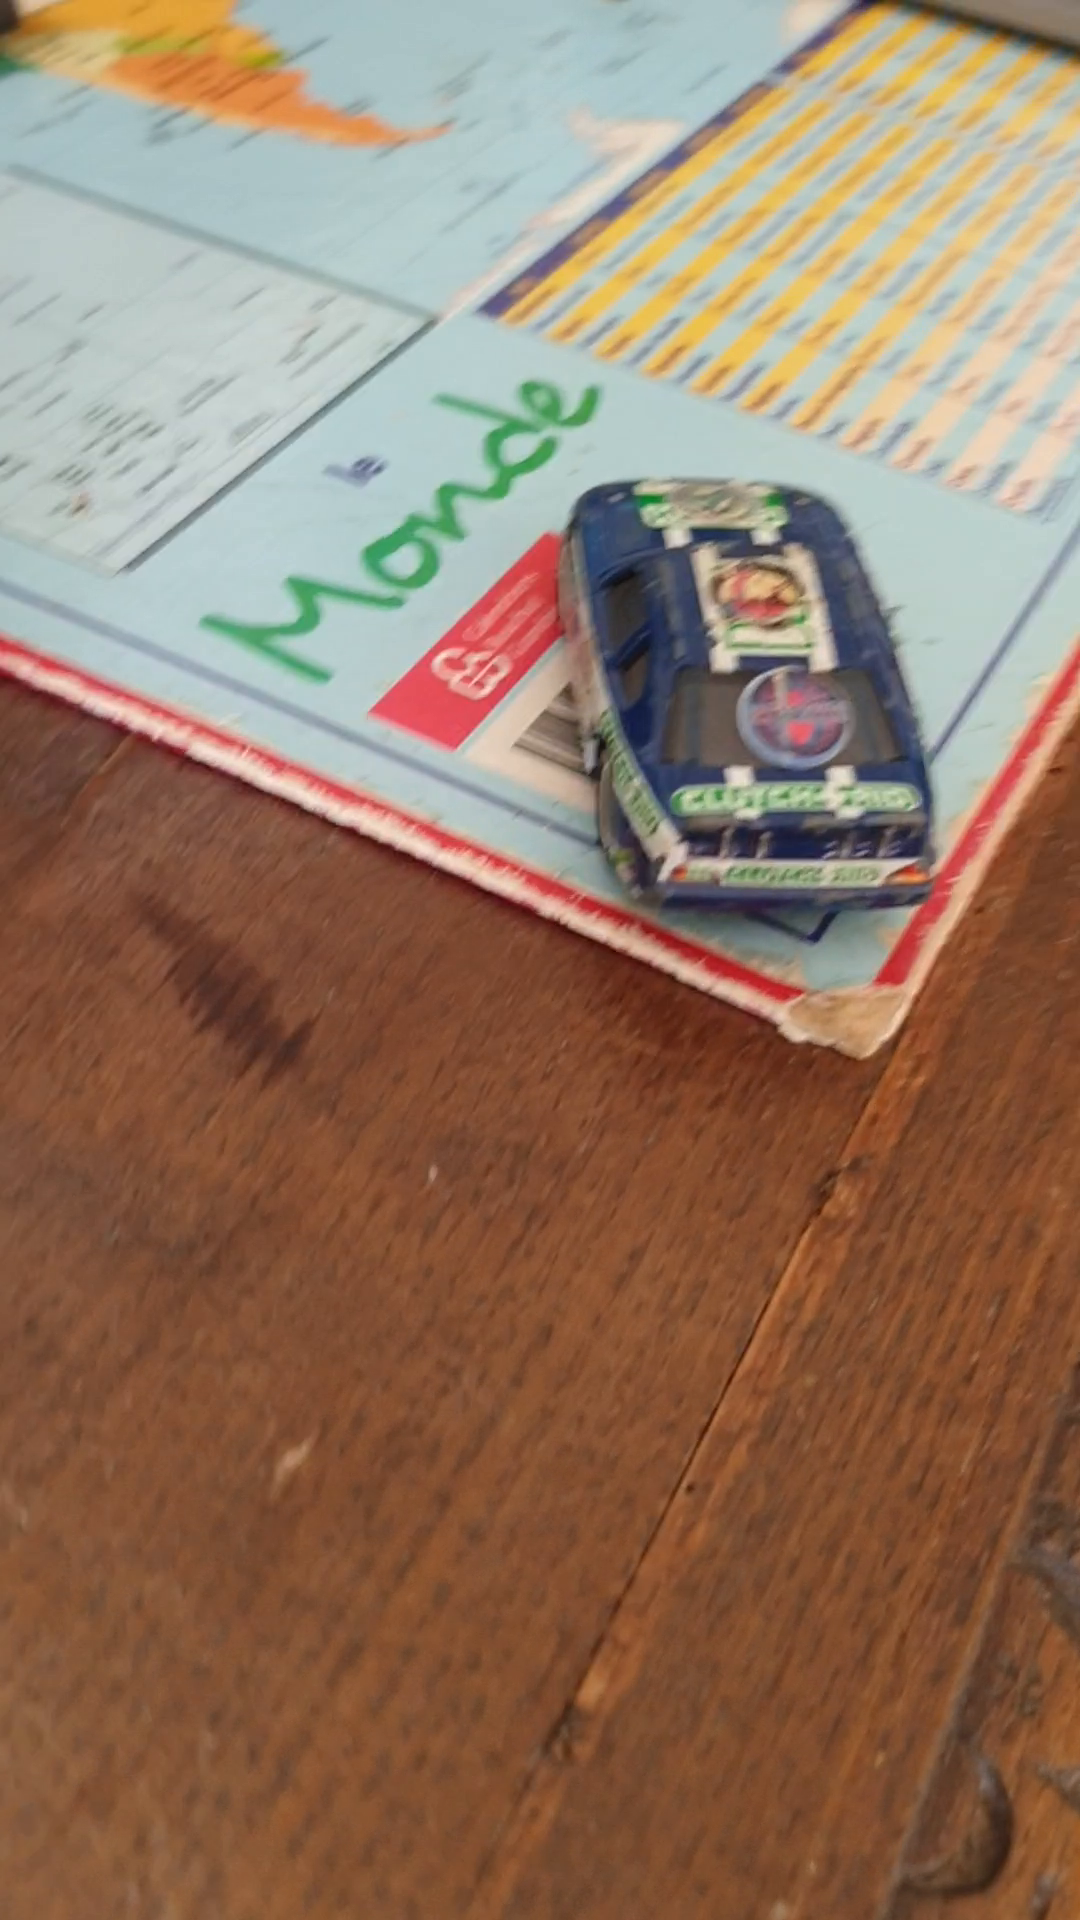cars: (559, 473, 943, 903)
